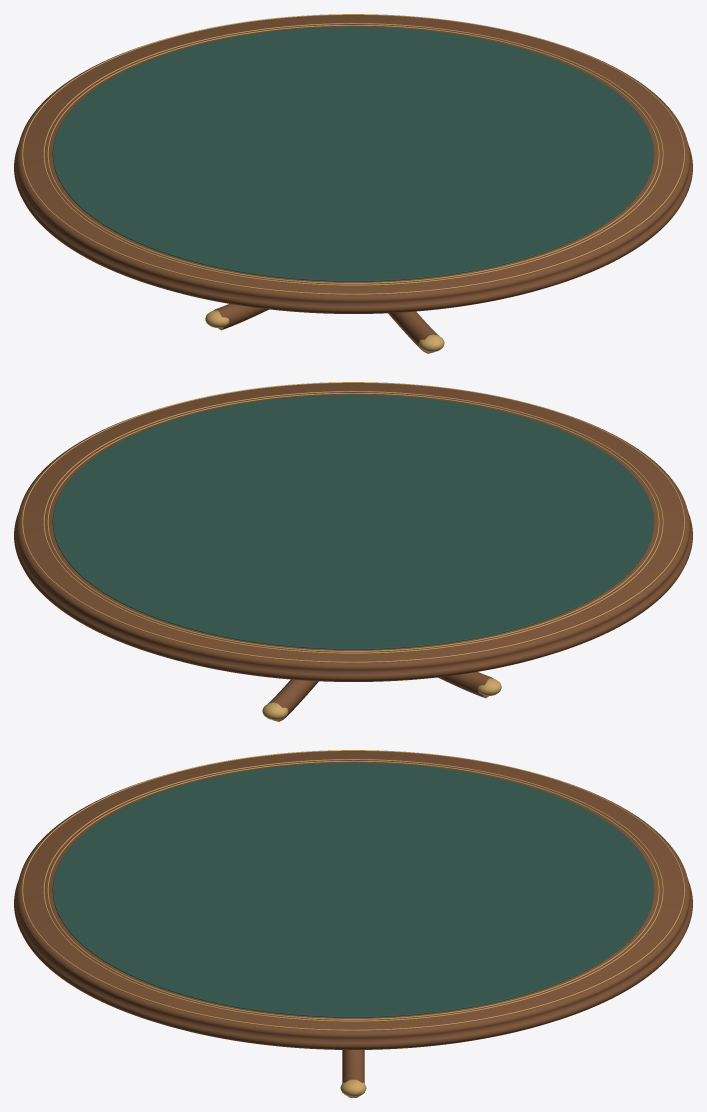
File: Table.fbx
The picture shows the model from 3 angles, top to bottom: view 1: azimuth 30°, elevation 25°; view 2: azimuth 150°, elevation 25°; view 3: azimuth 270°, elevation 25°; orthographic projection.
Visible parts, largest first — view 1: Deep forest baize, Ogee walnut edge, Fine brass inlay; view 2: Deep forest baize, Ogee walnut edge, Fine brass inlay; view 3: Deep forest baize, Ogee walnut edge, Fine brass inlay.
Boxes of the visible parts, box(x1,y1,x2,y2) form: Deep forest baize: box(52, 26, 654, 281); Ogee walnut edge: box(14, 15, 692, 353); Fine brass inlay: box(22, 14, 684, 351); Deep forest baize: box(52, 394, 654, 649); Ogee walnut edge: box(14, 383, 692, 721); Fine brass inlay: box(22, 382, 684, 719); Deep forest baize: box(52, 762, 654, 1017); Ogee walnut edge: box(14, 751, 692, 1097); Fine brass inlay: box(22, 750, 684, 1096).
Size of the model in its own units: 387 by 89.85 by 387.
